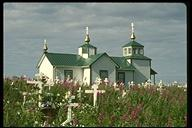church: (32, 18, 160, 90)
grass: (95, 90, 184, 122)
sky: (5, 4, 83, 38)
